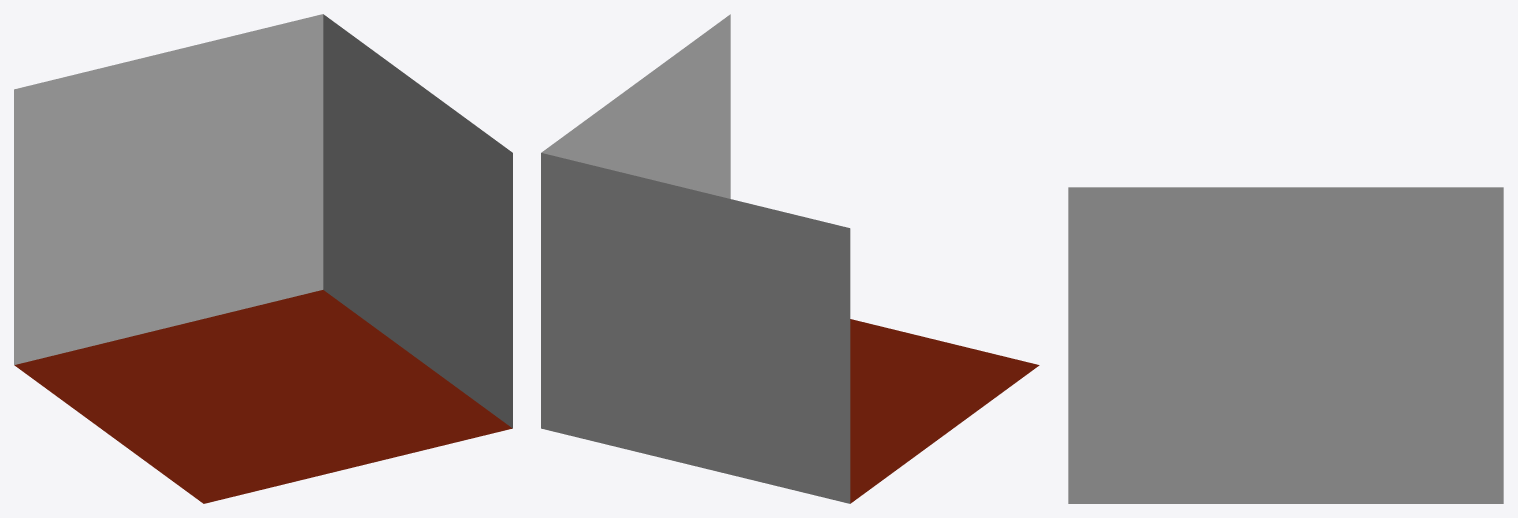
The picture shows the model from 3 angles, left to right: view 1: azimuth 30°, elevation 25°; view 2: azimuth 150°, elevation 25°; view 3: azimuth 270°, elevation 25°; orthographic projection. The views are drawn at different scales.
Parts seen in each view (by area): view 1: Box001; view 2: Box001; view 3: Box001.
Boxes of the visible parts, box(x1,y1,x2,y2) form: Box001: box(14, 14, 512, 503); Box001: box(541, 14, 1039, 503); Box001: box(1068, 187, 1503, 503).
Bounding box in the file's own units: 90.52 × 77.18 × 96.19.
